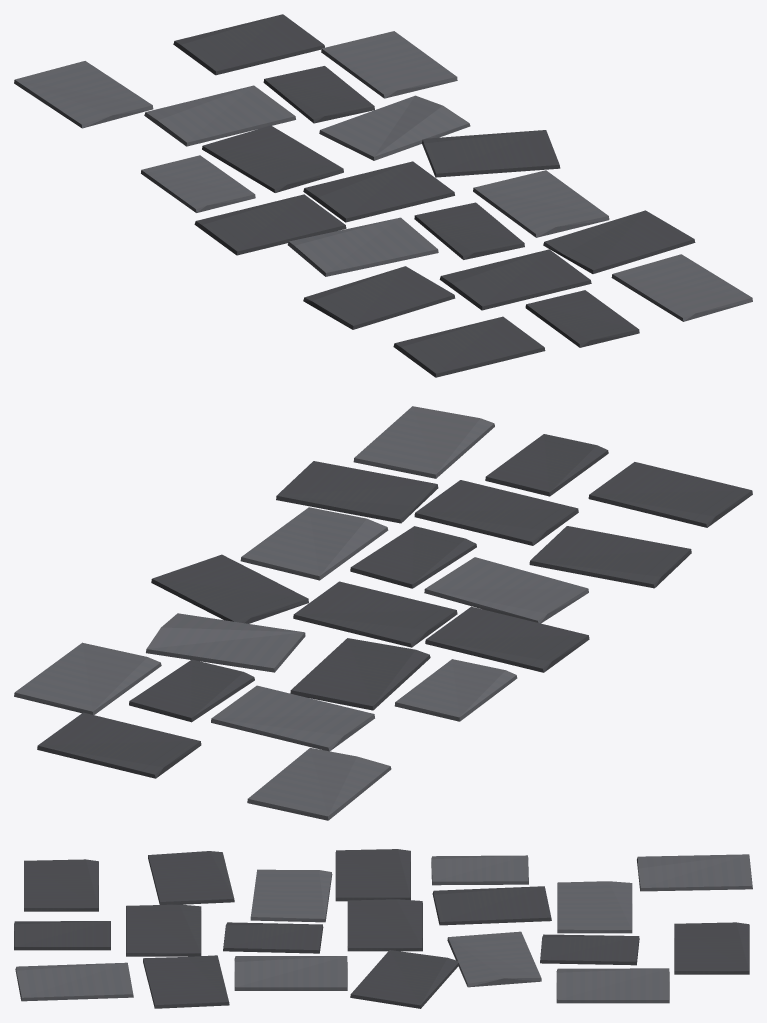
File: Road_Path_Ground_3.fbx
3 views of the same model, one above another, from view 1: azimuth 30°, elevation 25°; view 2: azimuth 150°, elevation 25°; view 3: azimuth 270°, elevation 25° (orthographic). The views are drawn at different scales.
Visible parts, largest first — view 1: polySurface10642; view 2: polySurface10642; view 3: polySurface10642.
Part boxes in pixels (x1,y1,x2,y2): polySurface10642: [14, 14, 752, 377]; polySurface10642: [14, 406, 752, 820]; polySurface10642: [14, 849, 752, 1008].
Size of the model in its own units: 195 by 3.69 by 393.
